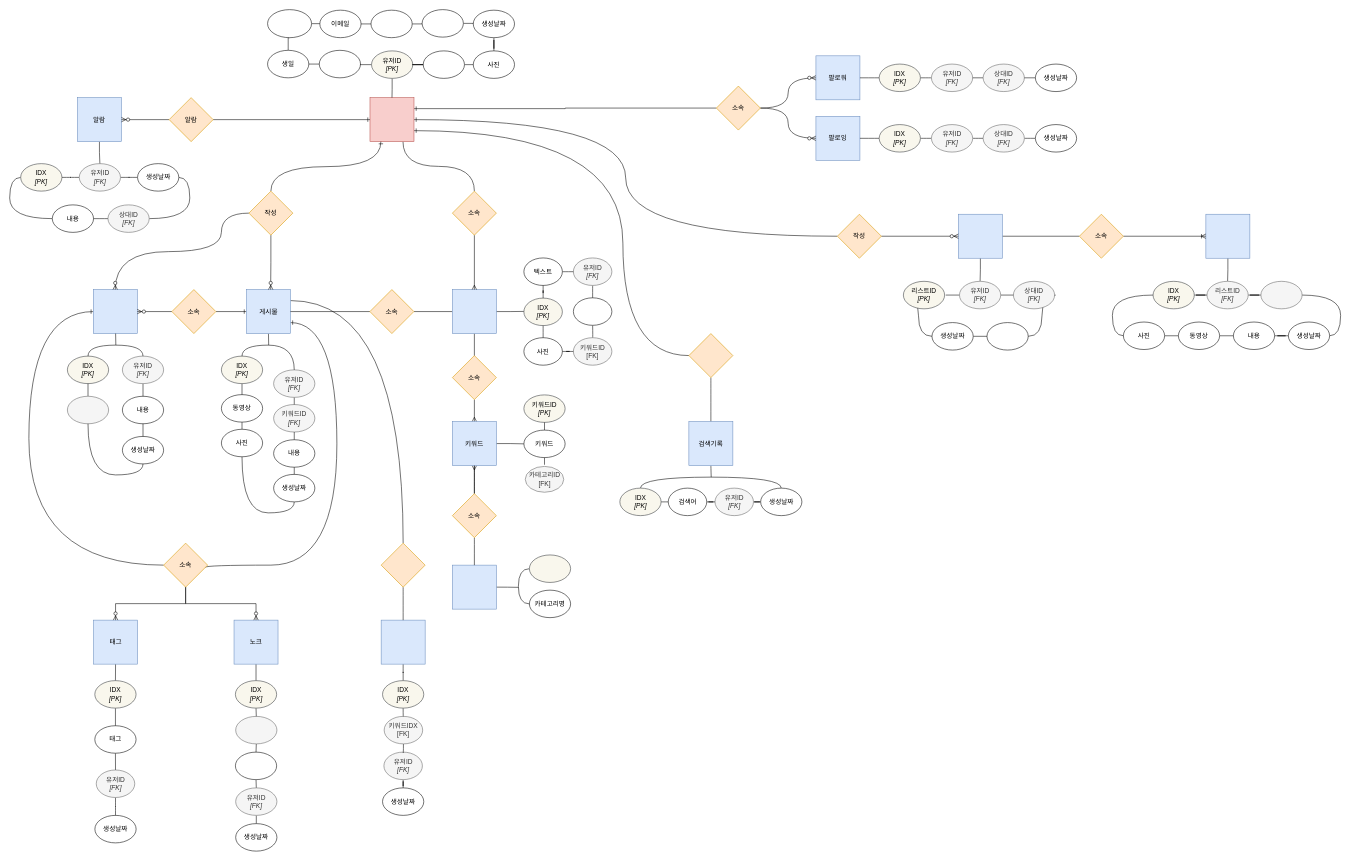
The diagram is 1350 pixels wide and 861 high, and some of its shapes have lost their labels. Each missing label, with the centre of its shape:
"IDX" goes at pixel 289 23.
"UK_ID" goes at pixel 592 311.
"검색" goes at pixel 710 355.
"게시글IDX [FK]" goes at pixel 88 410.
"구분" goes at pixel 256 766.
"구분IDX [FK]" goes at pixel 256 730.
"댓글" goes at pixel 115 311.
"메세지" goes at pixel 1227 236.
"메세지 리스트" goes at pixel 980 236.
"비밀번호" goes at pixel 442 23.
"업데이트 날짜" goes at pixel 1007 336.
"유저" goes at pixel 391 119.
"유저 키워드" goes at pixel 474 311.
"이름" goes at pixel 340 64.
"자동생성" goes at pixel 403 565.
"카테고리" goes at pixel 474 587.
"카테고리ID [PK]" goes at pixel 550 568.
"키워드작성" goes at pixel 403 642.
"탈퇴여부" goes at pixel 443 64.
"핸드폰번호" goes at pixel 391 24.
"화자ID [FK]" goes at pixel 1281 295.
